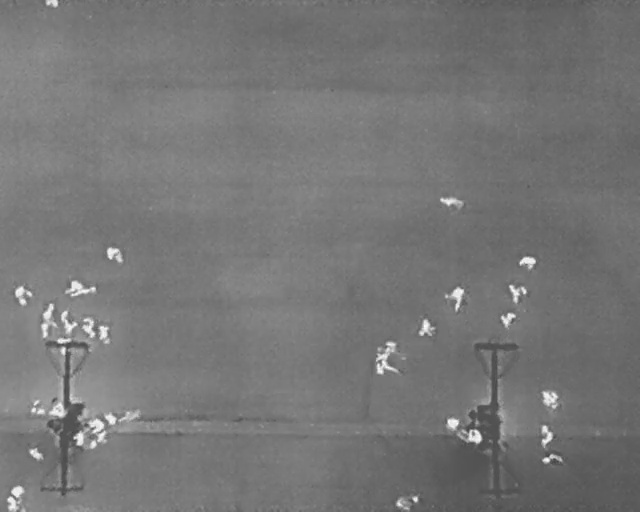Person: (436, 188, 468, 215), (63, 278, 98, 297), (375, 349, 399, 376), (445, 284, 464, 313), (24, 441, 47, 464), (61, 310, 78, 336), (105, 244, 125, 266), (508, 282, 527, 305), (39, 299, 58, 321), (48, 396, 66, 418), (541, 388, 559, 410), (395, 495, 419, 511), (417, 318, 436, 338), (539, 424, 554, 449), (14, 284, 31, 306), (101, 410, 120, 428), (90, 431, 108, 450), (518, 254, 537, 272), (82, 316, 96, 338), (499, 311, 516, 329), (57, 337, 72, 356), (97, 325, 112, 344), (468, 427, 483, 446), (541, 454, 565, 465), (29, 399, 45, 415), (445, 415, 459, 432), (384, 339, 397, 356), (72, 430, 85, 446), (88, 419, 103, 432), (10, 485, 25, 498), (6, 496, 17, 511), (40, 324, 49, 341), (46, 0, 57, 8)
